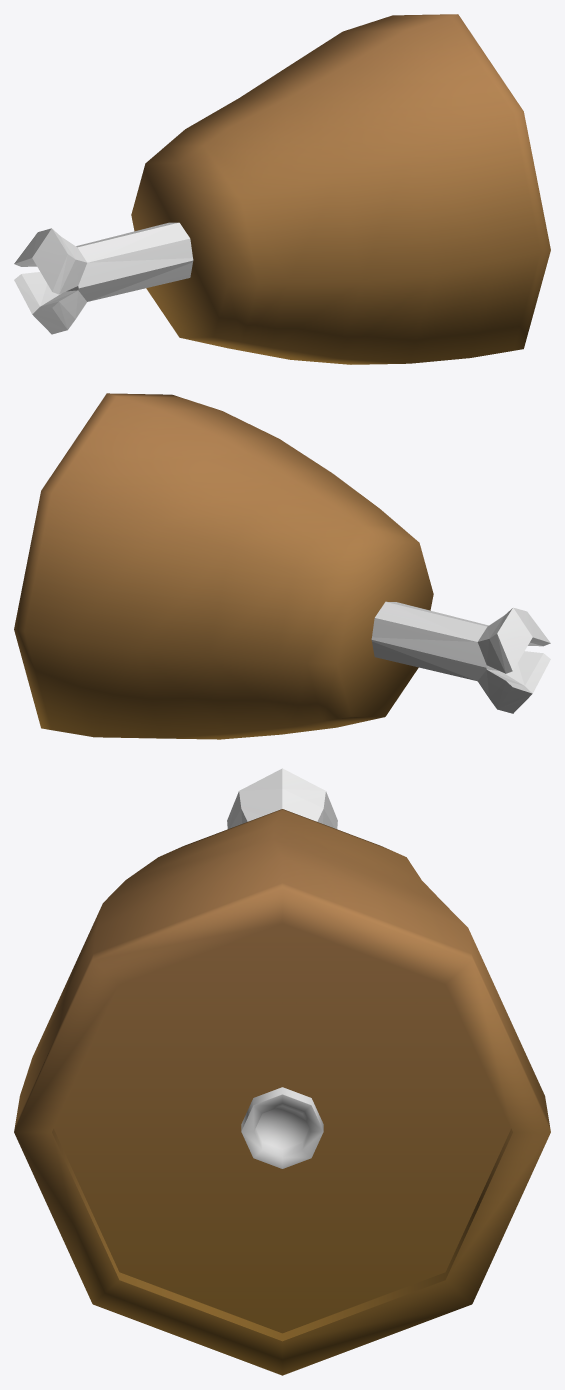
File: meat.fbx
3 renders of one model, top to bottom at view 1: azimuth 30°, elevation 25°; view 2: azimuth 150°, elevation 25°; view 3: azimuth 270°, elevation 25°, orthographic. The views are drawn at different scales.
Visible parts, largest first — view 1: meat; view 2: meat; view 3: meat.
Part boxes in pixels (left/top/right/bottom): meat: left=14, top=14, right=550, bottom=364; meat: left=14, top=393, right=550, bottom=739; meat: left=14, top=768, right=550, bottom=1375.
Bounding box in the file's own units: 89.46 × 67.46 × 67.46.
